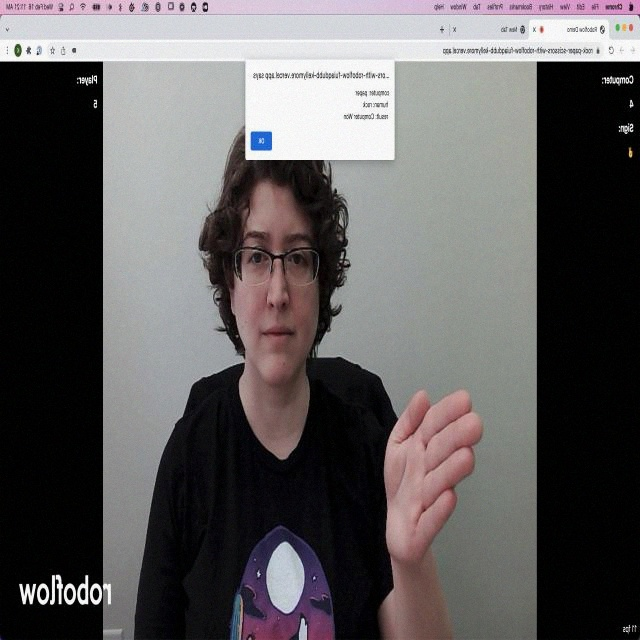Paper: (363, 372, 485, 573)
